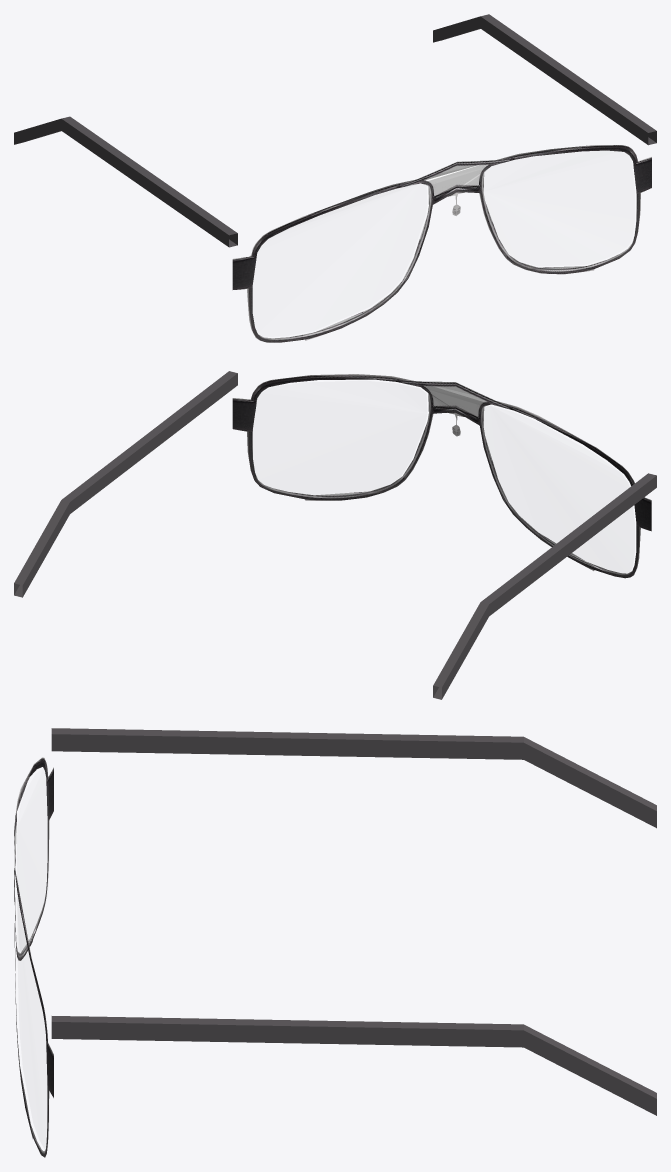
Rendered from gothamstyle-stainless-15_black.glb.
The picture shows the model from 3 angles, top to bottom: view 1: azimuth 30°, elevation 25°; view 2: azimuth 150°, elevation 25°; view 3: azimuth 270°, elevation 25°; orthographic projection. The views are drawn at different scales.
Visible parts, largest first — view 1: frame_front, temple_viewer_left, temple_viewer_right; view 2: frame_front, temple_viewer_left, temple_viewer_right; view 3: temple_viewer_left, temple_viewer_right, frame_front.
Boxes of the visible parts, x1=… form: frame_front: x1=232, y1=145, x2=651, y2=342; temple_viewer_left: x1=14, y1=116, x2=237, y2=247; temple_viewer_right: x1=433, y1=14, x2=656, y2=145; frame_front: x1=232, y1=374, x2=651, y2=578; temple_viewer_left: x1=433, y1=473, x2=656, y2=699; temple_viewer_right: x1=14, y1=371, x2=237, y2=597; temple_viewer_left: x1=51, y1=728, x2=656, y2=828; temple_viewer_right: x1=51, y1=1016, x2=656, y2=1115; frame_front: x1=14, y1=757, x2=53, y2=1157.
Bounding box in the file's own units: 0.147 × 0.0488 × 0.136.
3 materials, 2 textured.
